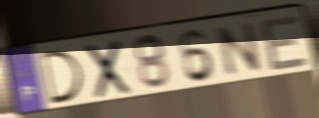6: (178, 28, 216, 85)
8: (132, 33, 172, 93)
D: (38, 48, 86, 107)
E: (259, 12, 311, 74)
N: (216, 20, 264, 79)
X: (84, 37, 134, 102)
